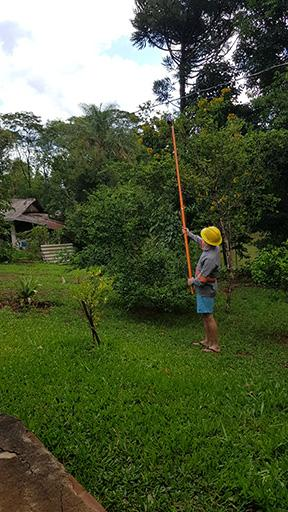Vara_Manobra: (168, 121, 193, 296)
